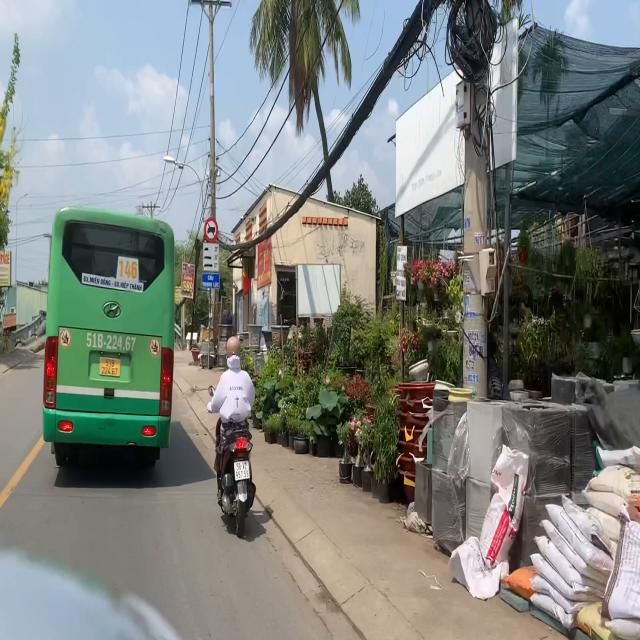Cam con lai: (203, 217, 219, 242)
